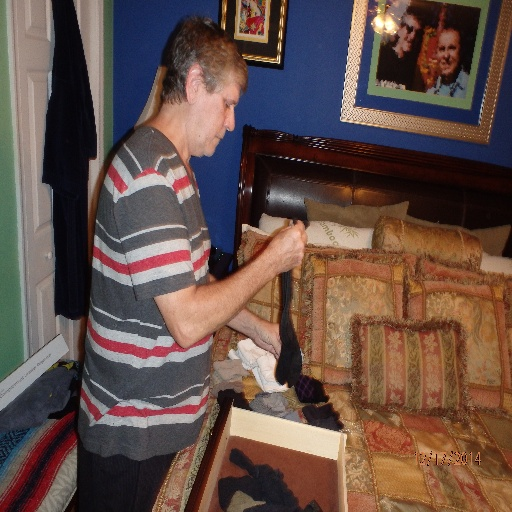hand: (241, 220, 315, 303), (252, 322, 285, 362)
